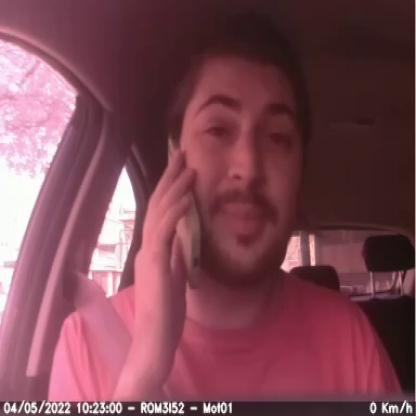phone: (152, 130, 206, 297)
